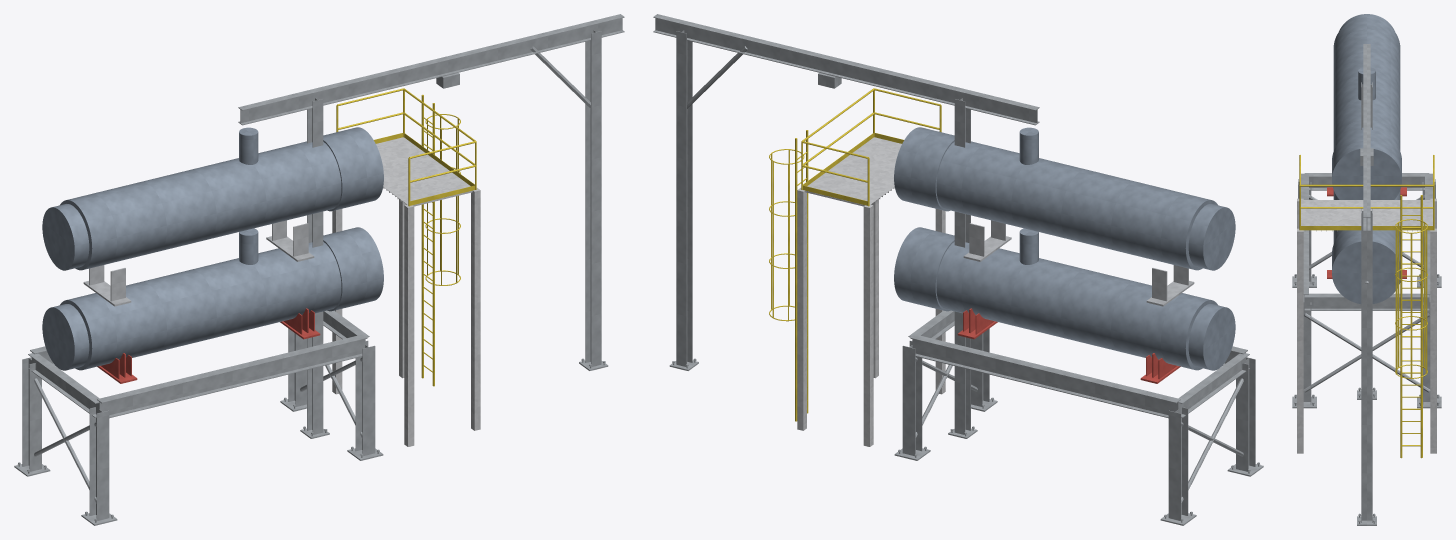
The model's file is heat-exchanger-frames-and-supports.glb.
3 views of the same model, side by side, from view 1: azimuth 30°, elevation 25°; view 2: azimuth 150°, elevation 25°; view 3: azimuth 270°, elevation 25° (orthographic). The views are drawn at different scales.
Parts seen in each view (by area): view 1: Exchangers(context), SupportFrame, BundlePullingBeam, AccessPlatform, Ladder&Handrails, StackingSupports, Saddles&SolePlates; view 2: Exchangers(context), SupportFrame, BundlePullingBeam, AccessPlatform, Ladder&Handrails, StackingSupports, Saddles&SolePlates; view 3: Exchangers(context), SupportFrame, AccessPlatform, Ladder&Handrails, BundlePullingBeam, Saddles&SolePlates.
Boxes of the visible parts, x1=… form: Exchangers(context): x1=42, y1=127, x2=383, y2=370; SupportFrame: x1=14, y1=310, x2=383, y2=525; BundlePullingBeam: x1=238, y1=14, x2=624, y2=438; AccessPlatform: x1=332, y1=137, x2=480, y2=446; Ladder&Handrails: x1=336, y1=88, x2=476, y2=386; StackingSupports: x1=83, y1=220, x2=314, y2=306; Saddles&SolePlates: x1=97, y1=308, x2=320, y2=383; Exchangers(context): x1=894, y1=127, x2=1235, y2=370; SupportFrame: x1=894, y1=310, x2=1263, y2=525; BundlePullingBeam: x1=653, y1=14, x2=1039, y2=438; AccessPlatform: x1=797, y1=137, x2=945, y2=446; Ladder&Handrails: x1=769, y1=88, x2=941, y2=421; StackingSupports: x1=963, y1=220, x2=1194, y2=306; Saddles&SolePlates: x1=957, y1=308, x2=1180, y2=383; Exchangers(context): x1=1332, y1=14, x2=1401, y2=303; SupportFrame: x1=1292, y1=173, x2=1441, y2=408; AccessPlatform: x1=1297, y1=198, x2=1436, y2=453; Ladder&Handrails: x1=1299, y1=155, x2=1434, y2=458; BundlePullingBeam: x1=1357, y1=44, x2=1376, y2=525; Saddles&SolePlates: x1=1327, y1=187, x2=1406, y2=278.
Bounding box in the file's own units: 13.67 × 7.88 × 3.35.
6 materials, 6 textured.
